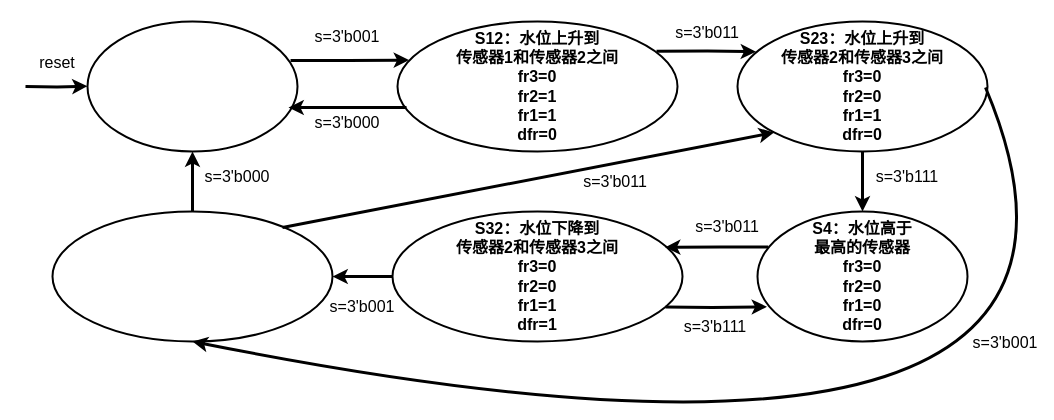
This 1054x420 diagram has some shape labels left out. Here are the shapes that lost their labels. From the top down, the centre of each, then its label:
At (192,86): "S0：水位低于 最低的传感器 fr3=1 fr2=1 fr1=1 dfr=1".
At (192,276): "S21： 水位下降到 传感器1和传感器2之间 fr3=0 fr2=1 fr1=1 dfr=1".
